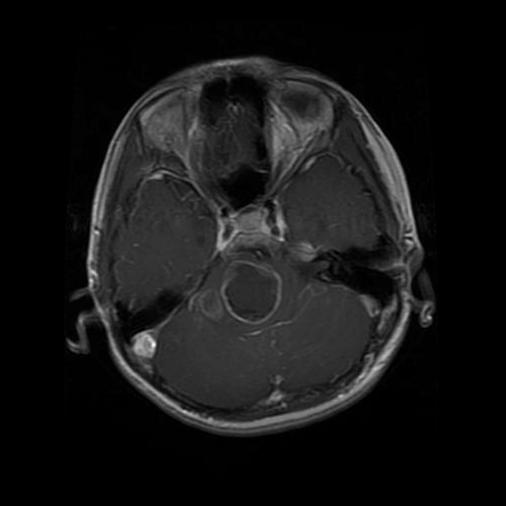Tumour-Glioma: (212, 249, 289, 338)
